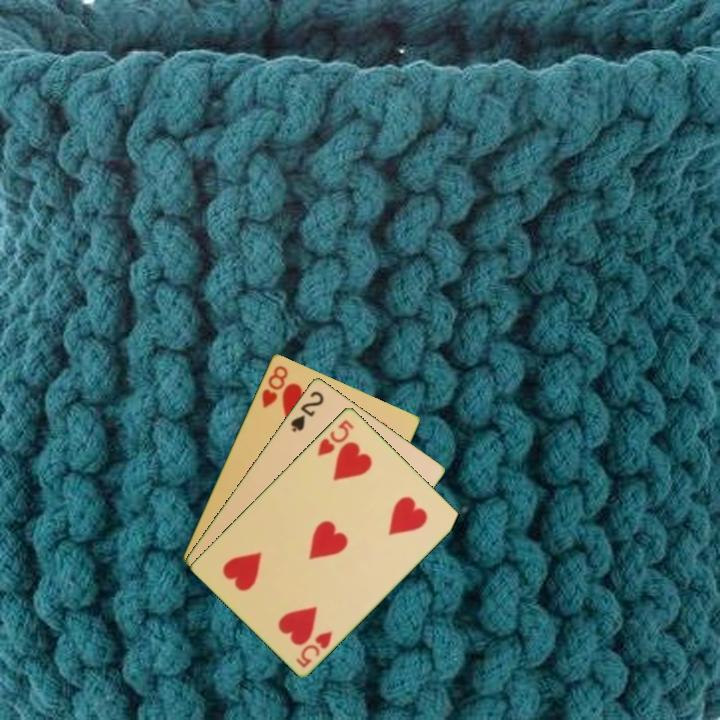2s: (287, 387, 327, 435)
5h: (292, 627, 335, 671), (314, 416, 357, 459)
8h: (258, 362, 291, 410)
